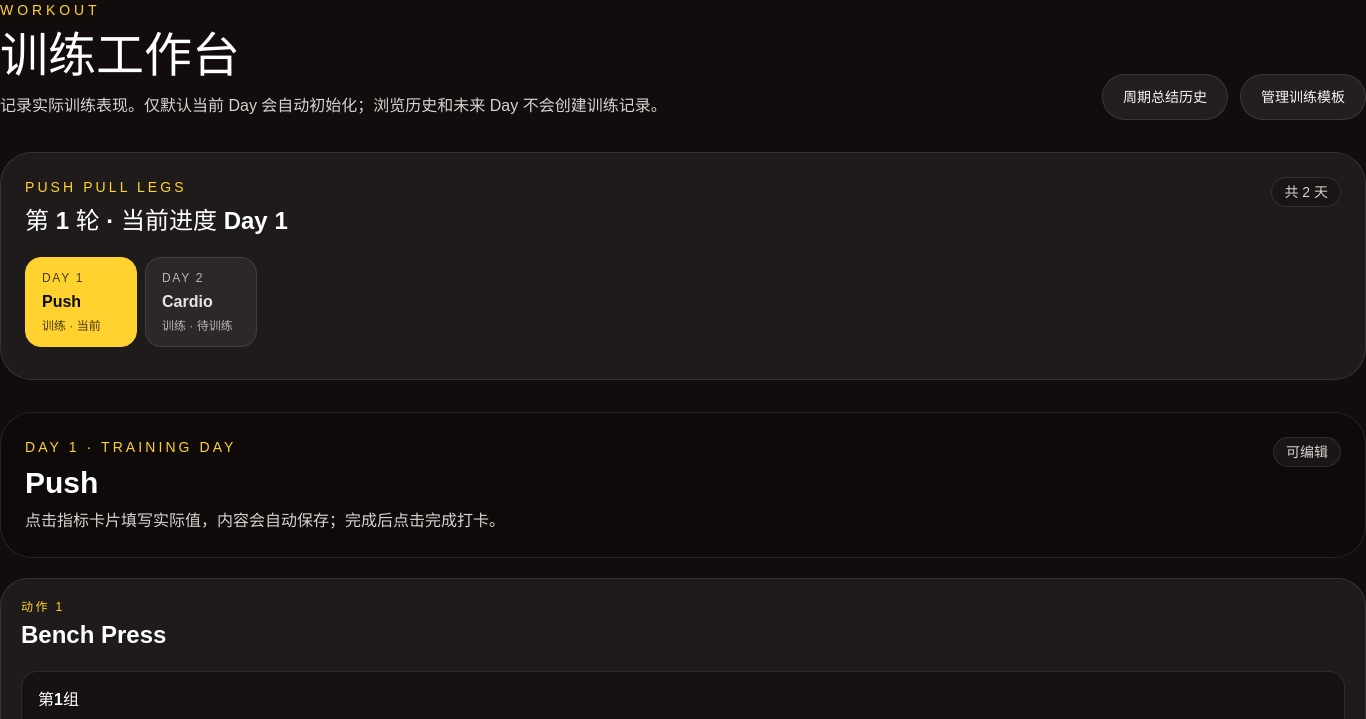
Test: WorkoutPage › browses a future day without initializing another session
Expected: the heading "Bench Press" is shown, x1=21 y1=619 x2=166 y2=651
What coordinates should you click on to do the following:
click the button "Day 2 Cardio 训练 · 待训练"
I would click on:
 (201, 302)
Its box is x1=145 y1=257 x2=257 y2=347.
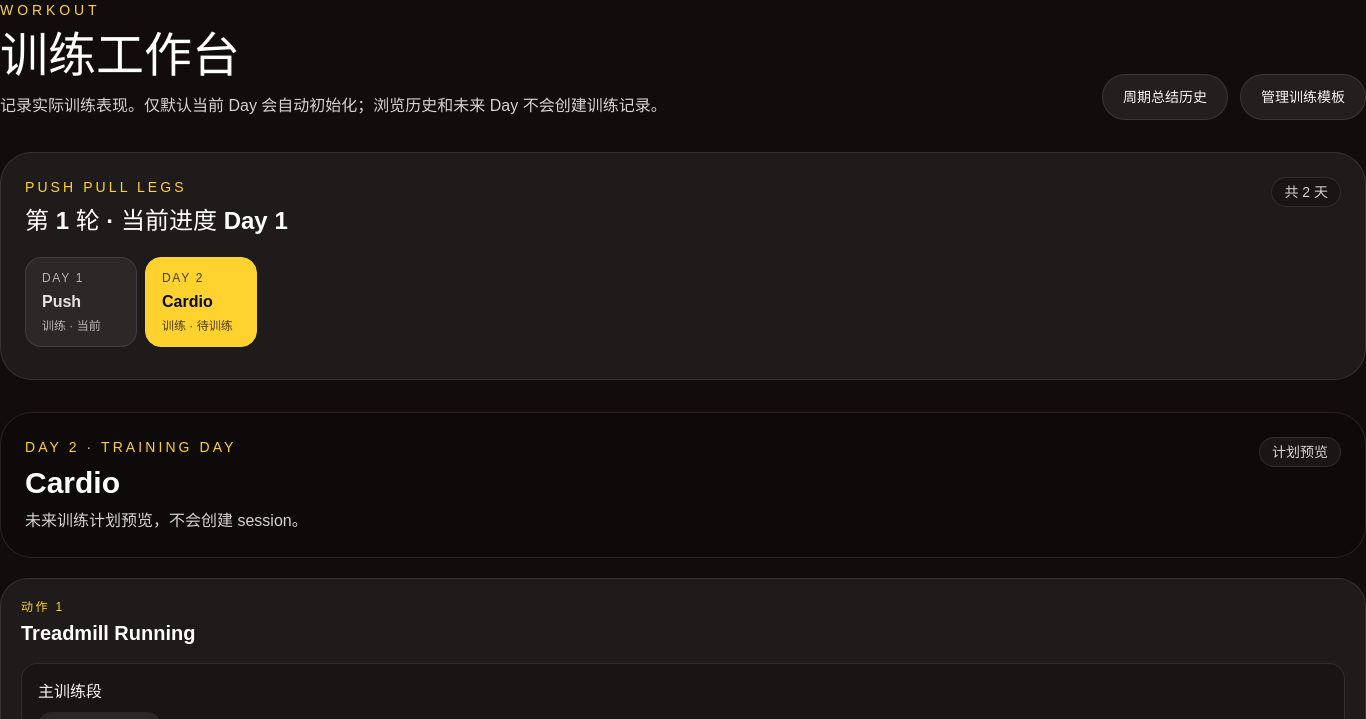
Expected: the text "未来训练计划预览，不会创建 session。" is shown, x1=25 y1=509 x2=308 y2=533
